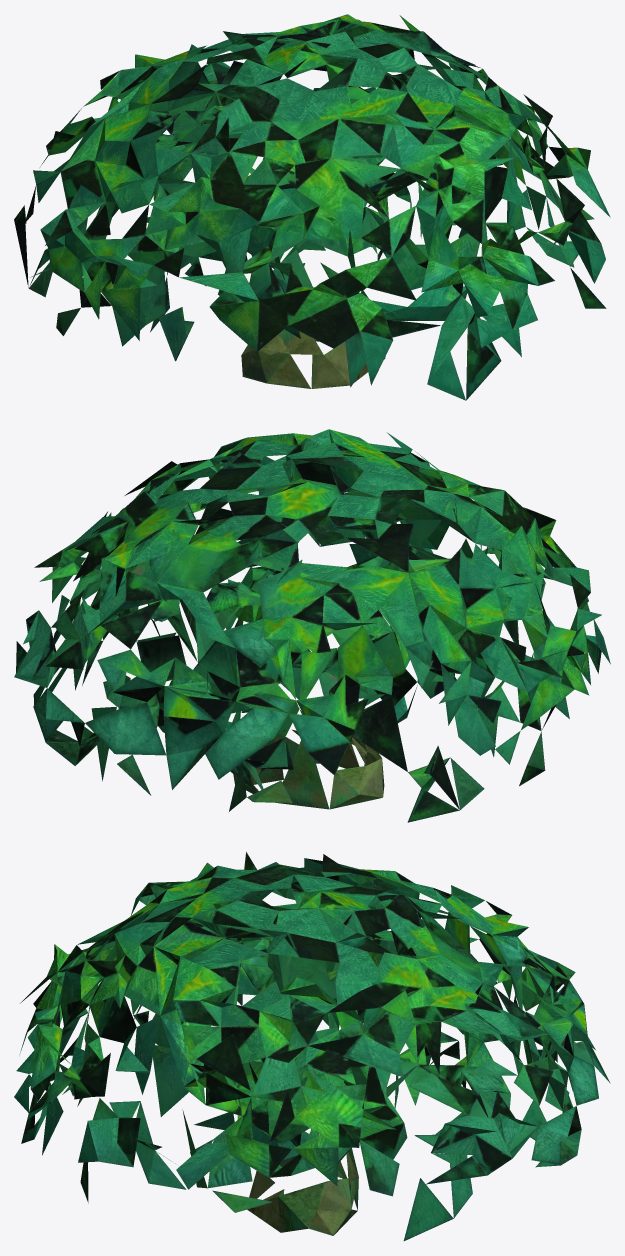
The model's file is bush.glb.
The picture shows the model from 3 angles, top to bottom: view 1: azimuth 30°, elevation 25°; view 2: azimuth 150°, elevation 25°; view 3: azimuth 270°, elevation 25°; orthographic projection.
Bounding box in the file's own units: 1.71 × 1.02 × 1.73.
Materials: 1 (1 with a texture image).
